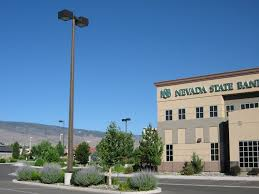light_pole: (65, 15, 77, 184)
